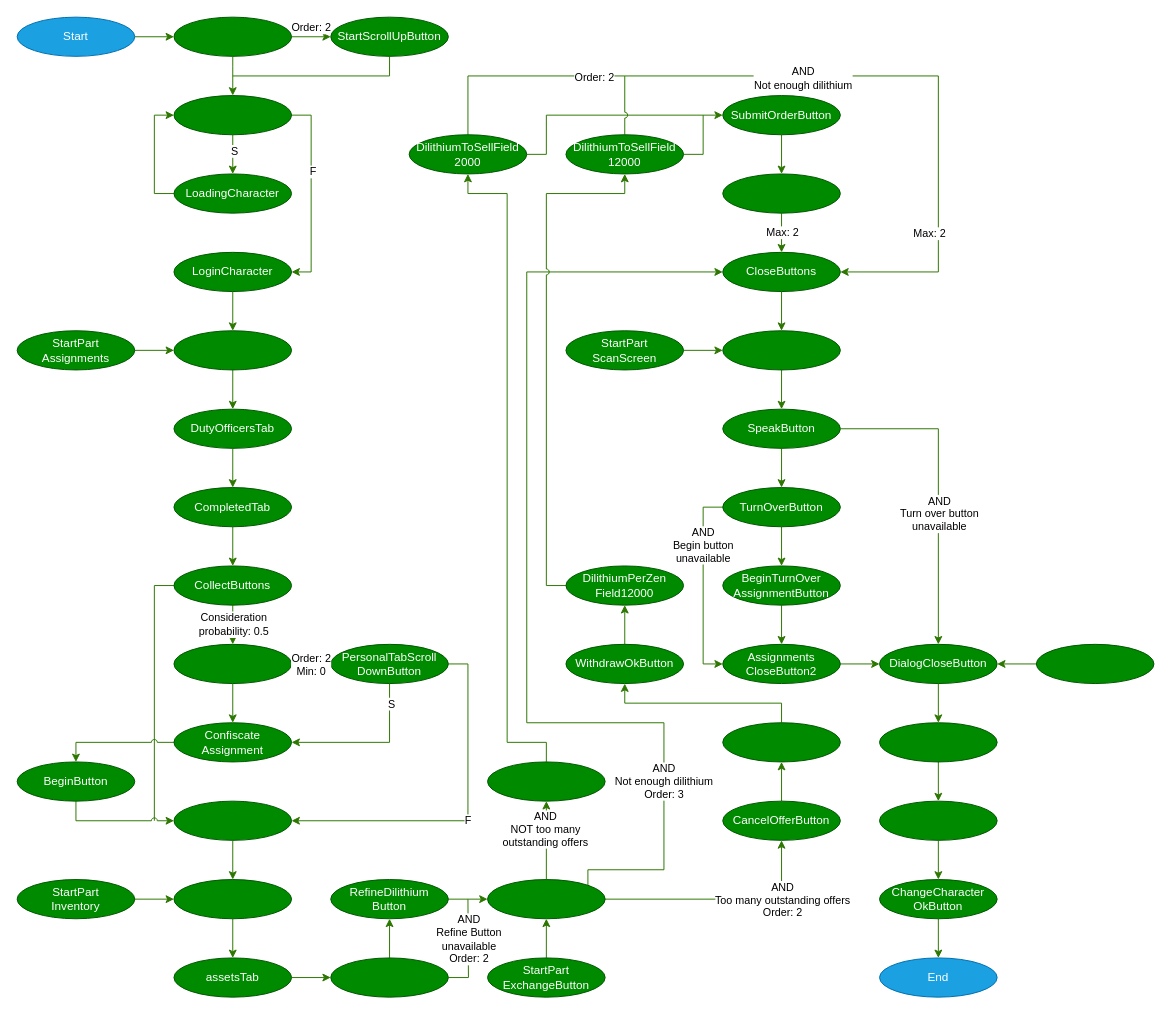
The diagram is 1171 pixels wide and 1014 high, and some of its shapes have lost their labels. The centre of each missing label's shape, as x and y in pixels:
AssignmentsButton: the point at 232,350
AssignmentsClose Button: the point at 232,820
ChangeCharacter Button: the point at 938,820
DilithiumPerZen Field2000: the point at 546,781
ExchangeButton: the point at 546,899
GameMenuButton: the point at 938,742
InventoryButton: the point at 232,899
InventoryScroll DownButton: the point at 389,977
PersonalTap: the point at 232,663
ScanScreenForUI: the point at 781,350
SelectCharacter: the point at 232,115
StartPart DialogClose: the point at 1094,663
StartScrollDown Button: the point at 232,36
SubmitOkButton: the point at 781,193
WithdrawButton: the point at 781,742
